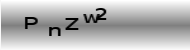2: (94, 7, 106, 20)
P: (22, 16, 39, 31)
Z: (64, 17, 80, 32)
n: (47, 26, 62, 38)
w: (82, 13, 98, 24)
